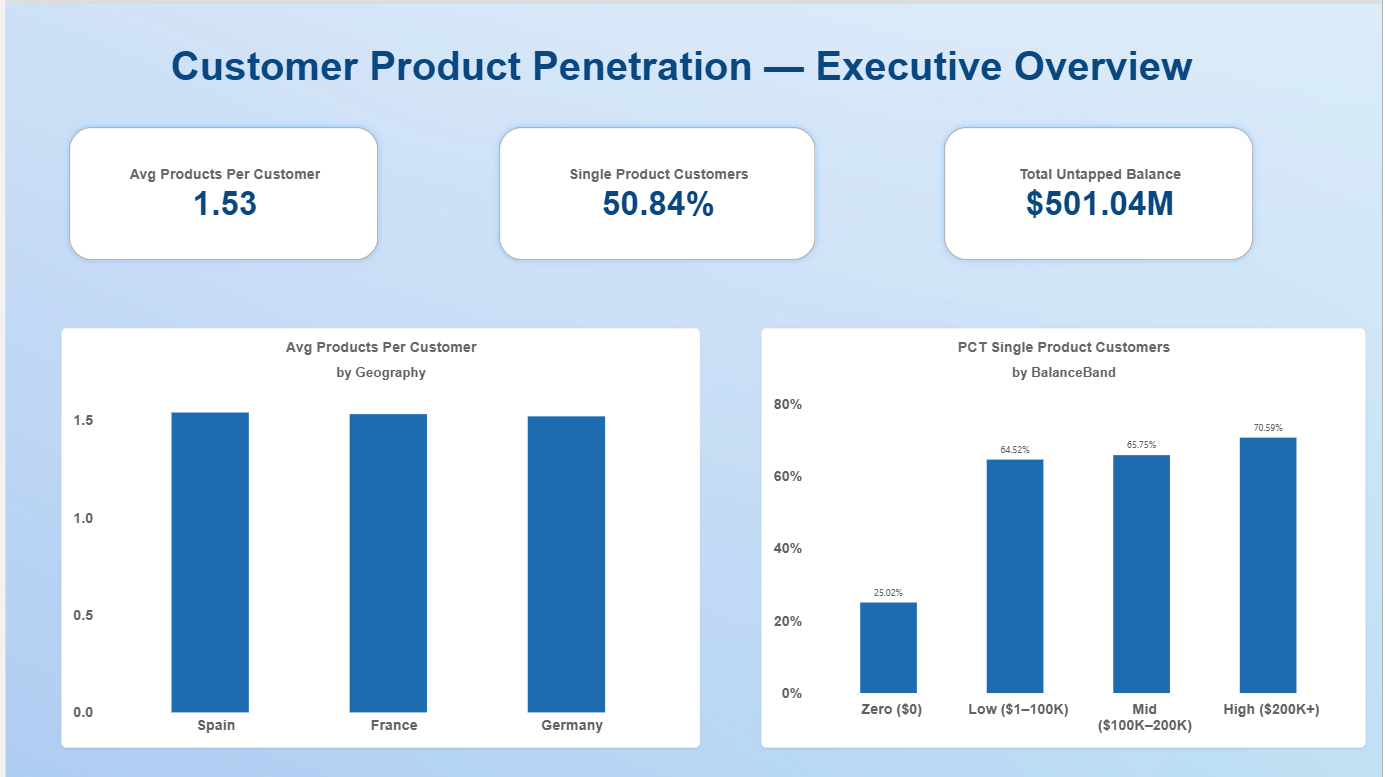

What the dashboard file says about the page in this screenshot:
{"tool":"powerbi","page":{"name":"Executive Overview","canvas":[1920,1080],"ordinal":0},"visuals":[{"type":"cardVisual","fields":{"Data":["bank_customers.Avg Products Per Customer"]},"box":[76,160,454.1,208],"z":0},{"type":"textbox","box":[100,0,1686.4,147.5],"z":1000},{"type":"cardVisual","fields":{"Data":["bank_customers.% Single Product Customers"]},"box":[676.1,160,464.1,208],"z":2000},{"type":"cardVisual","fields":{"Data":["bank_customers.Total Untapped Balance"]},"box":[1298.3,160,454.1,208],"z":3000},{"type":"clusteredColumnChart","fields":{"Category":["bank_customers.Geography"],"Y":["bank_customers.Avg Products Per Customer"]},"box":[76,452.1,892.2,586.1],"z":4000},{"type":"clusteredColumnChart","fields":{"Category":["bank_customers.BalanceBand"],"Y":["bank_customers.PCT Single Product Customers"]},"box":[1054.2,452.1,844.2,586.1],"z":5000}]}

Visuals, with their boxes in screenshot pixels (x1, y1, x2, y2), scaled from the page's 1920x1080 canvas onto the 1385x777 screenshot:
cardVisual - bank_customers.Avg Products Per Customer: BBox(55, 115, 382, 265)
textbox: BBox(72, 0, 1289, 106)
cardVisual - bank_customers.% Single Product Customers: BBox(488, 115, 822, 265)
cardVisual - bank_customers.Total Untapped Balance: BBox(937, 115, 1264, 265)
clusteredColumnChart - bank_customers.Geography x bank_customers.Avg Products Per Customer: BBox(55, 325, 698, 747)
clusteredColumnChart - bank_customers.BalanceBand x bank_customers.PCT Single Product Customers: BBox(760, 325, 1369, 747)
